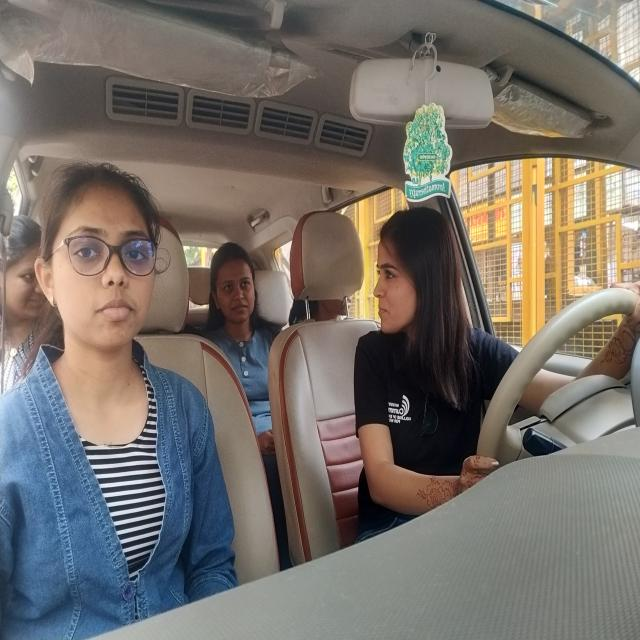LeftRight: (368, 214, 452, 339)
person: (36, 159, 164, 358), (0, 220, 50, 324), (209, 244, 262, 323)
